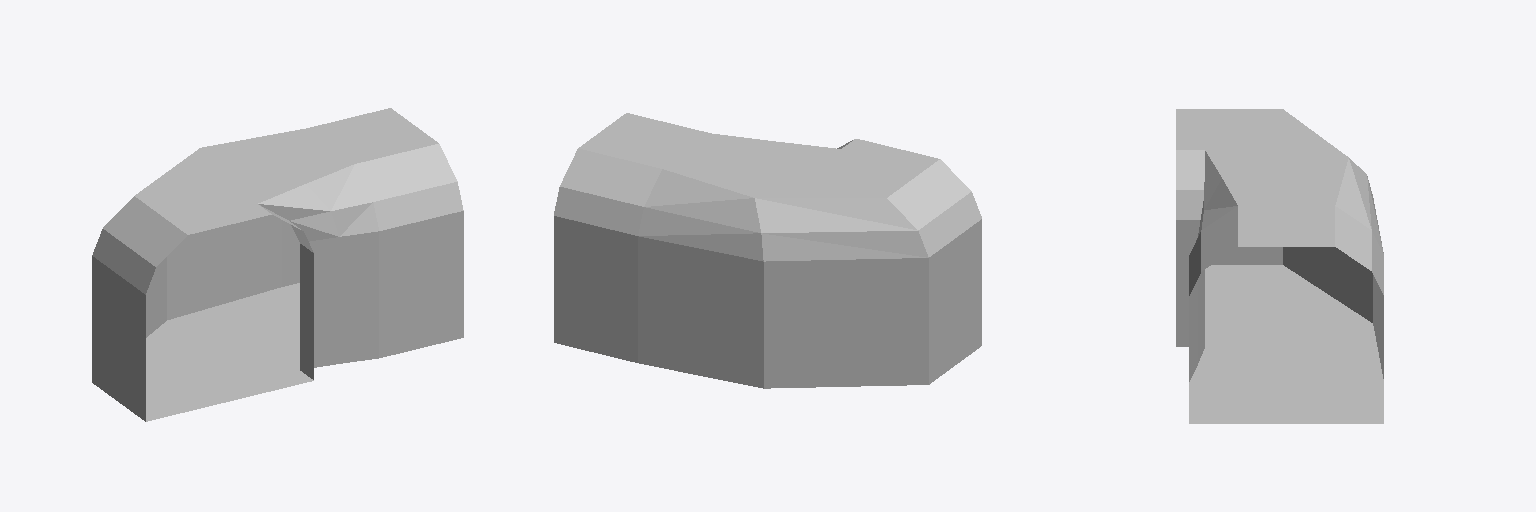
The model's file is corridor_turn_left.obj.
3 views of the same model, side by side, from view 1: azimuth 30°, elevation 25°; view 2: azimuth 150°, elevation 25°; view 3: azimuth 270°, elevation 25° (orthographic).
Parts seen in each view (by area): view 1: Cube; view 2: Cube; view 3: Cube.
Part boxes in pixels (x1,y1,x2,y2): Cube: (92,108,463,421); Cube: (554,113,981,388); Cube: (1176,109,1383,423).
Bounding box in the file's own units: 19.25 × 10 × 10.69.